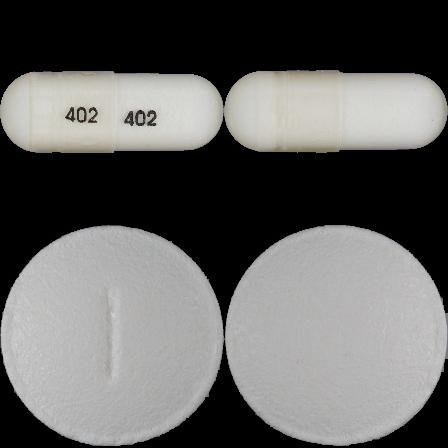49999-574: (0, 0, 224, 224)
